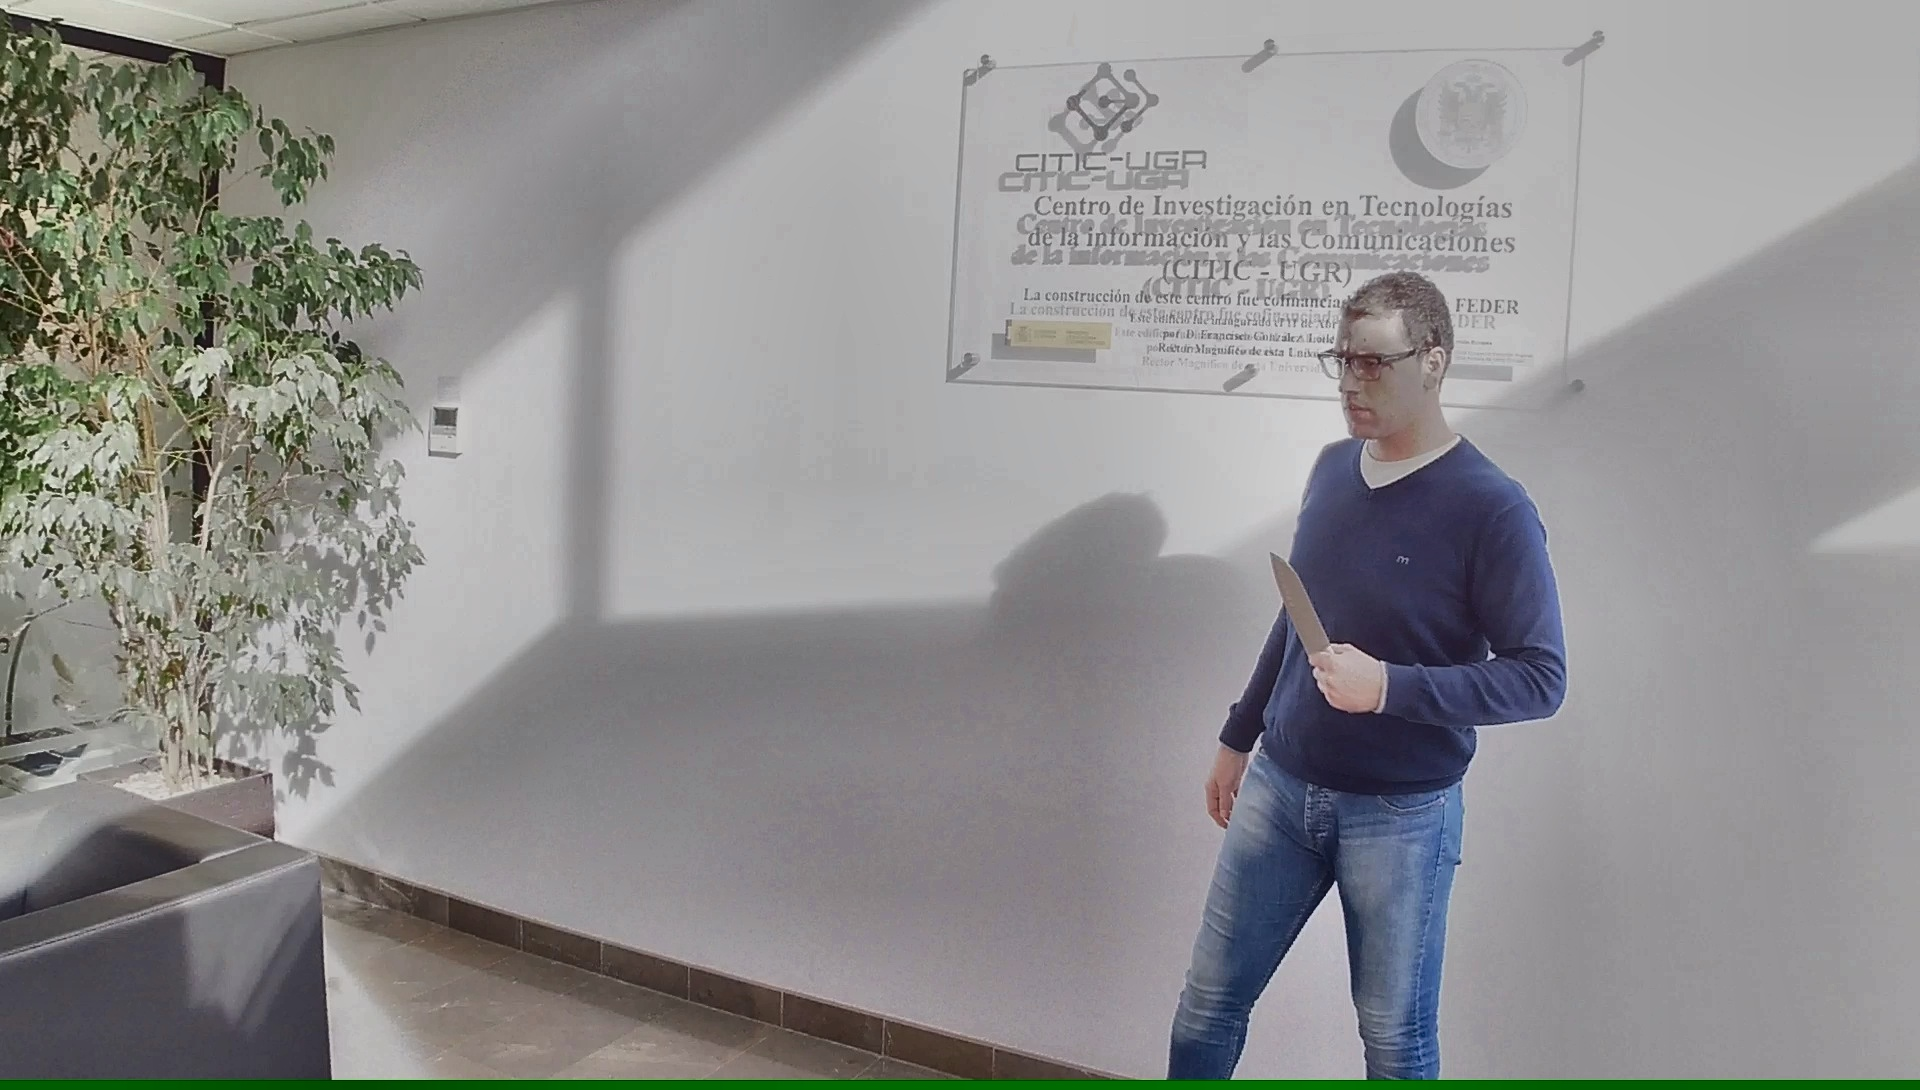knife: (1261, 536, 1360, 697)
